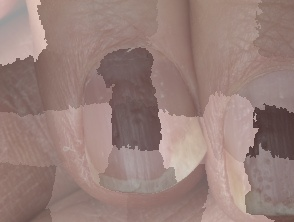Nail_psoriasis: (52, 0, 224, 212), (213, 32, 294, 222)
